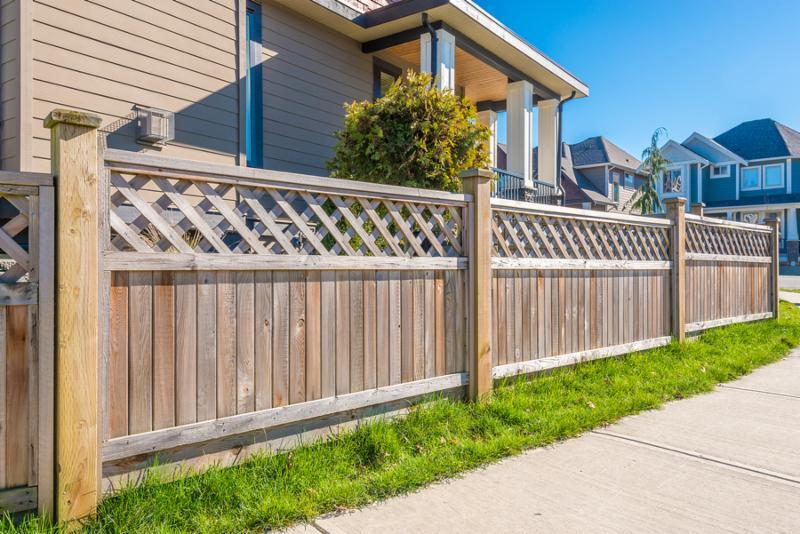Fence: (36, 176, 800, 420)
